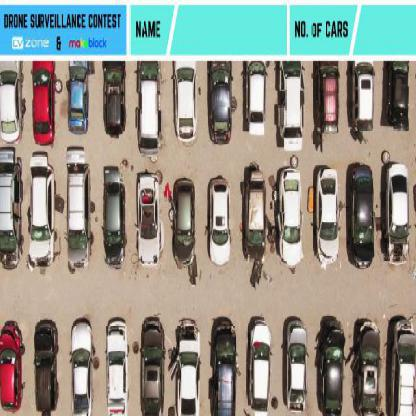car: (67, 149, 92, 271), (348, 321, 380, 415), (348, 163, 376, 269), (318, 319, 347, 414), (385, 156, 410, 264), (211, 321, 239, 415), (174, 319, 201, 415), (0, 152, 21, 270), (0, 319, 26, 413), (102, 164, 125, 268), (248, 316, 272, 414), (34, 324, 60, 414), (70, 317, 94, 413), (142, 320, 166, 415), (285, 319, 308, 415), (107, 317, 130, 409), (137, 173, 159, 269), (280, 168, 301, 268), (173, 180, 196, 271), (319, 165, 339, 263), (210, 177, 231, 268), (396, 325, 416, 415), (175, 67, 197, 145), (0, 68, 21, 143), (388, 62, 410, 128), (68, 64, 88, 136), (248, 64, 265, 137), (357, 63, 375, 131)
